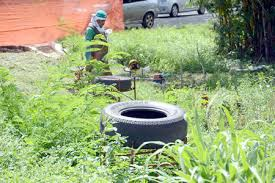tire: (100, 100, 189, 144), (87, 74, 134, 92)
